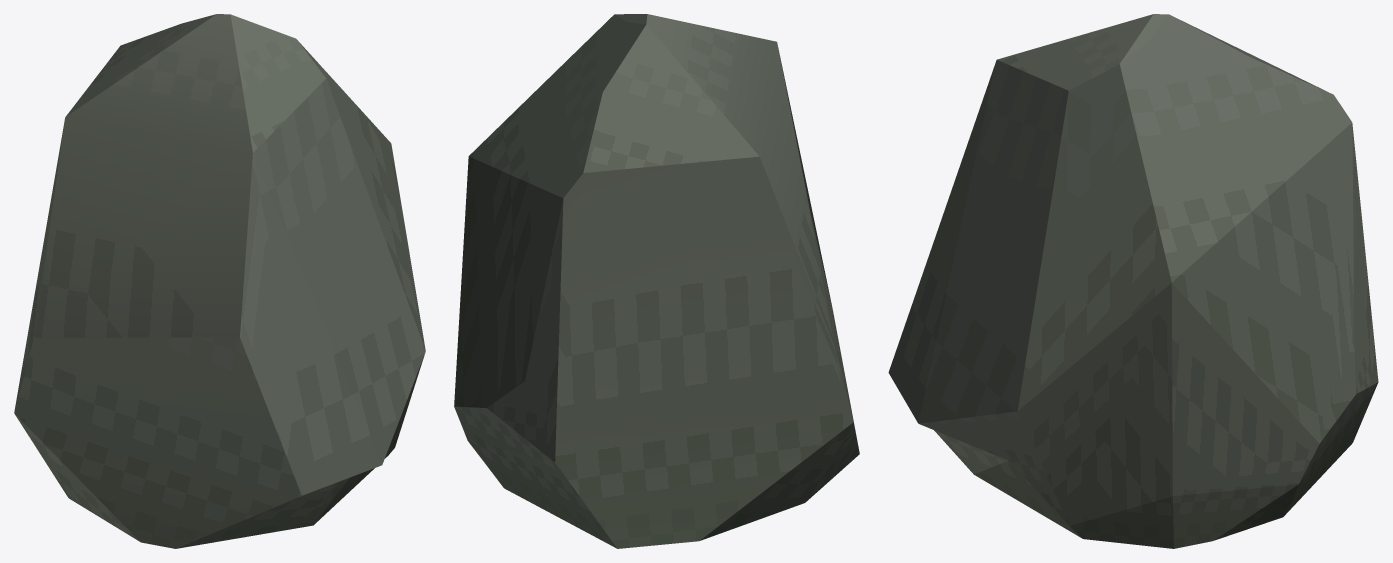
The model's file is Mesh_Deco_Pierre_2.glb.
3 renders of one model, left to right at view 1: azimuth 30°, elevation 25°; view 2: azimuth 150°, elevation 25°; view 3: azimuth 270°, elevation 25°, orthographic. The views are drawn at different scales.
Visible parts, largest first — view 1: Mesh_Deco_Pierre_2; view 2: Mesh_Deco_Pierre_2; view 3: Mesh_Deco_Pierre_2.
Part boxes in pixels (box(x1,y1,x2,y2)): Mesh_Deco_Pierre_2: box(14, 14, 425, 548); Mesh_Deco_Pierre_2: box(454, 14, 859, 548); Mesh_Deco_Pierre_2: box(888, 14, 1378, 548).
Bounding box in the file's own units: 0.2256 × 0.2531 × 0.2429.
Materials: 1 (1 with a texture image).
